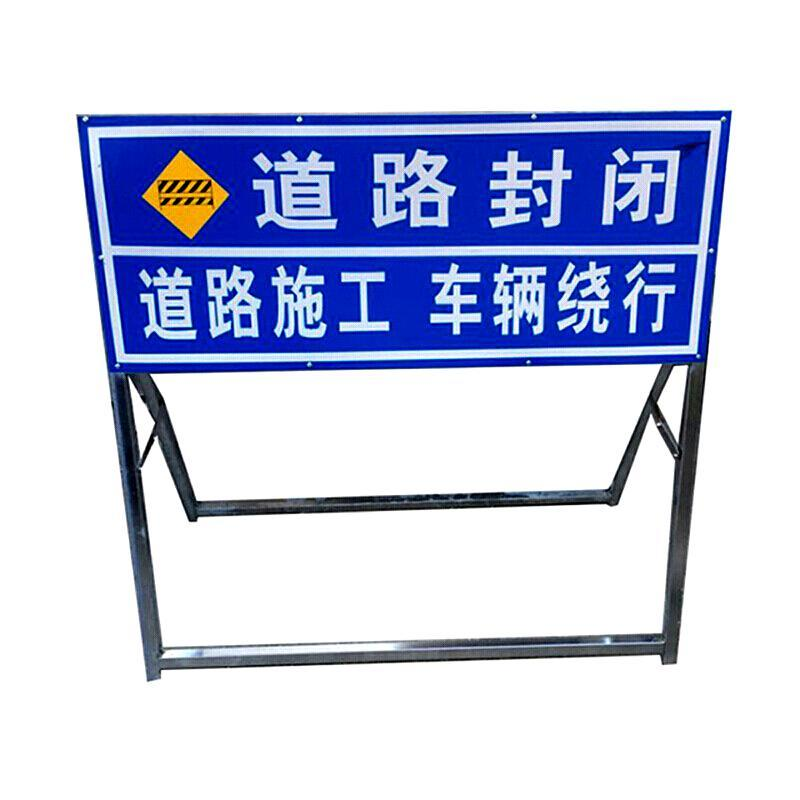sign: (82, 118, 712, 355)
